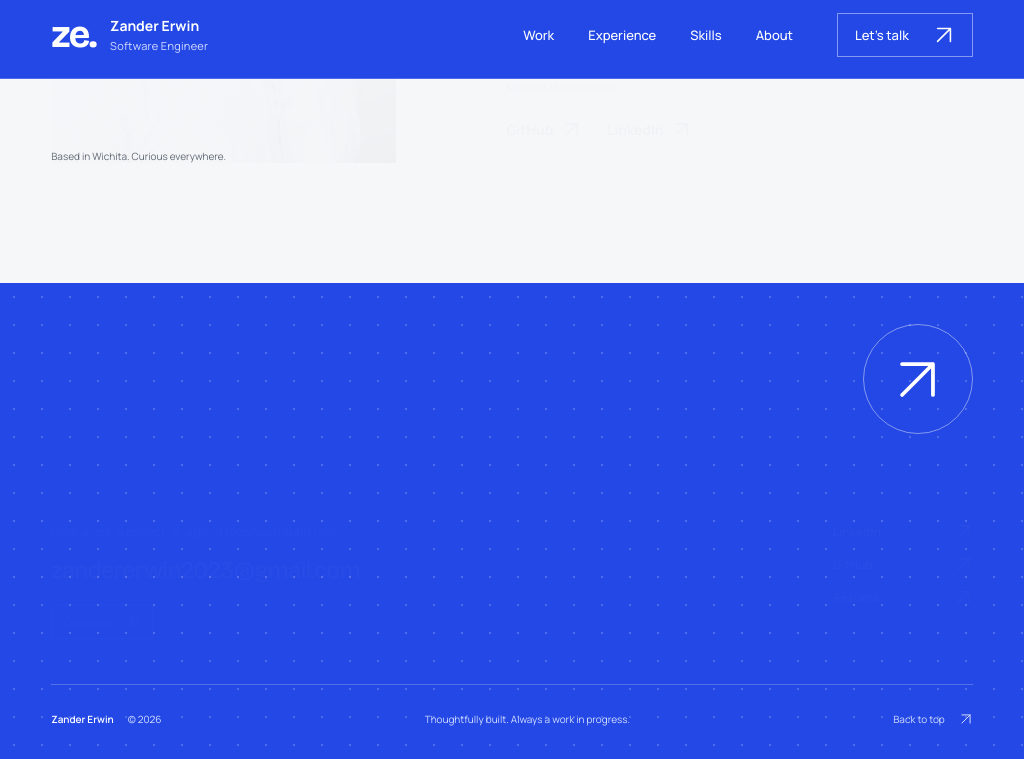
Test: copy failure offers a usable contact fallback
(page scrolled)
Click the button "Copy email" at (102, 622), box [51,605,153,639]
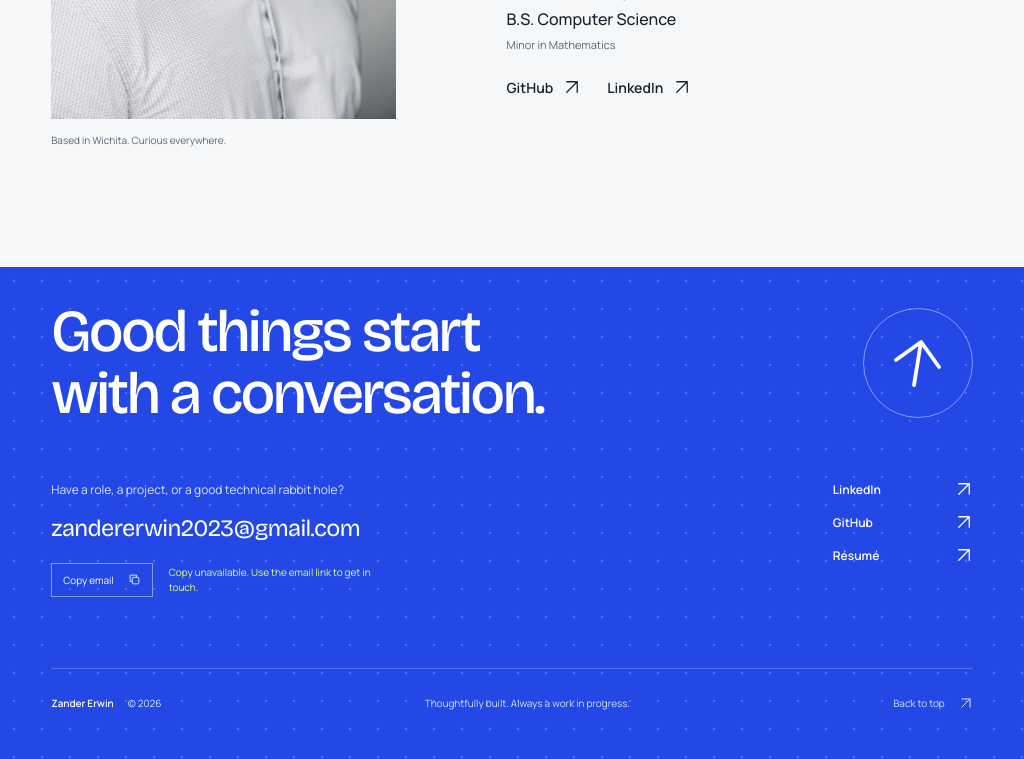
Expected: the text "Copy unavailable. Use the email link to get in touch." is shown, [169,565,382,595]
